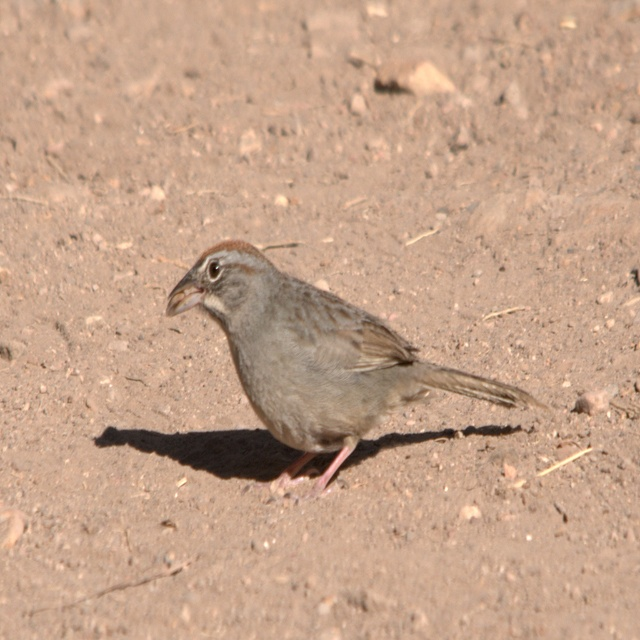Sparrow: (164, 239, 547, 493)
